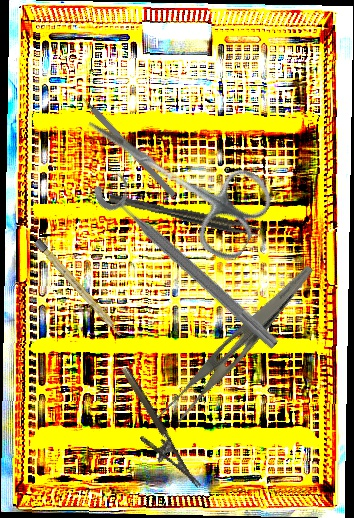Dressing Forceps: (154, 249, 315, 437)
Fixation Ring: (88, 166, 293, 355)
Hook Surgical: (72, 87, 177, 198)
Iris Scissors: (63, 87, 281, 267)
Needle Holder: (104, 364, 202, 501)
Scalpel Handle: (33, 238, 127, 340)
Tissue Forceps: (108, 189, 263, 240)
